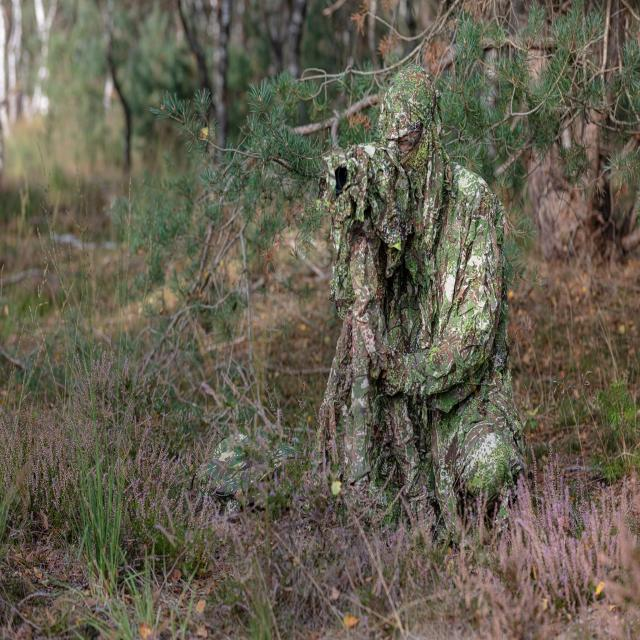Camouflage: (250, 60, 528, 522)
